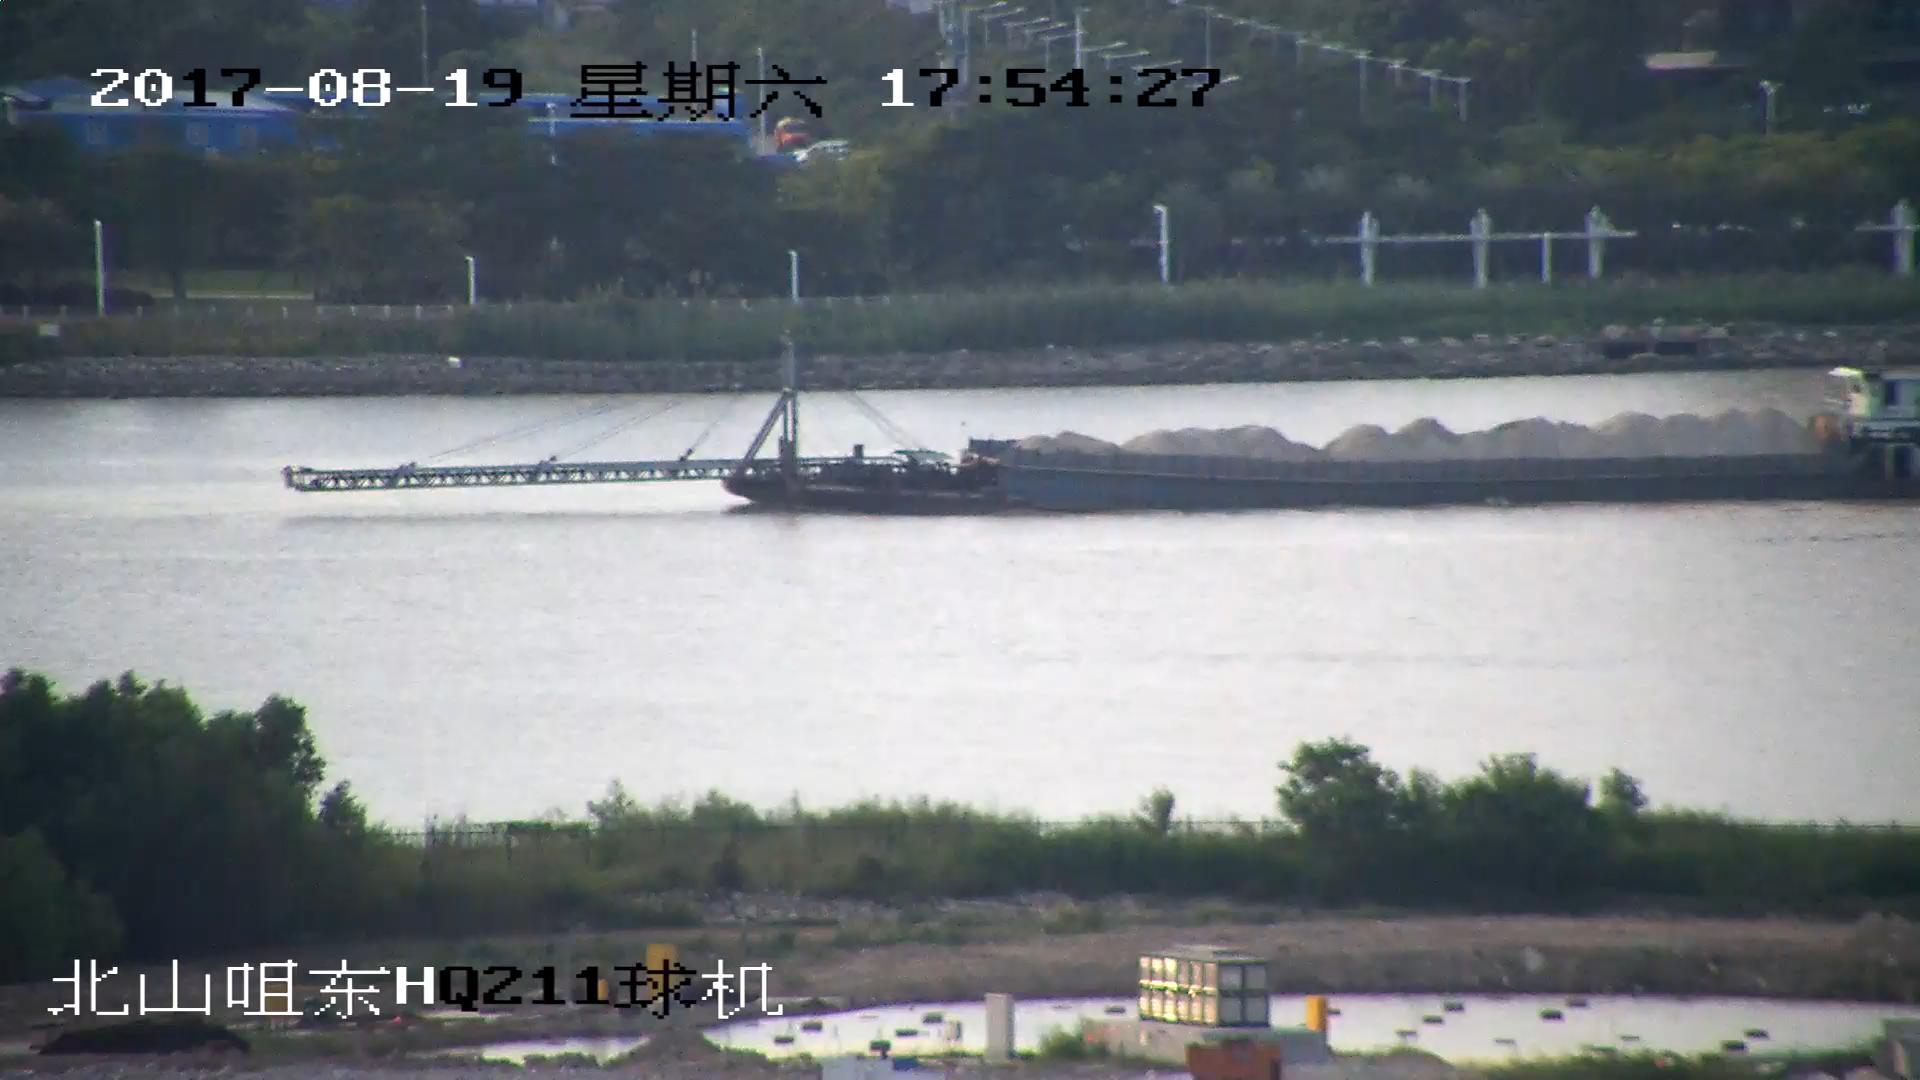Ship: (278, 342, 1920, 520)
